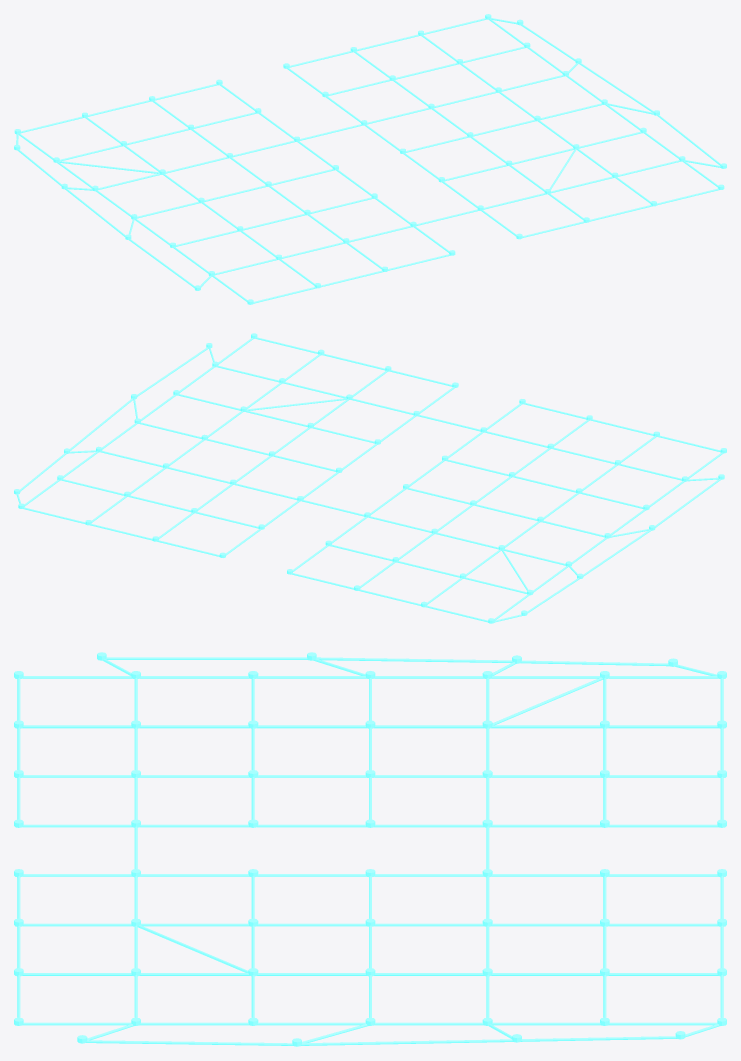
The model's file is graph_web.glb.
3 views of the same model, one above another, from view 1: azimuth 30°, elevation 25°; view 2: azimuth 150°, elevation 25°; view 3: azimuth 270°, elevation 25° (orthographic). The views are drawn at different scales.
Parts seen in each view (by area): view 1: Graph edges • exact road centre lines; view 2: Graph edges • exact road centre lines; view 3: Graph edges • exact road centre lines.
Boxes of the visible parts, left/top/right/bottom form: Graph edges • exact road centre lines: left=16, top=18, right=720, bottom=303; Graph edges • exact road centre lines: left=16, top=337, right=723, bottom=622; Graph edges • exact road centre lines: left=17, top=657, right=723, bottom=1045.
Size of the model in its own units: 378 by 2.6 by 292.
